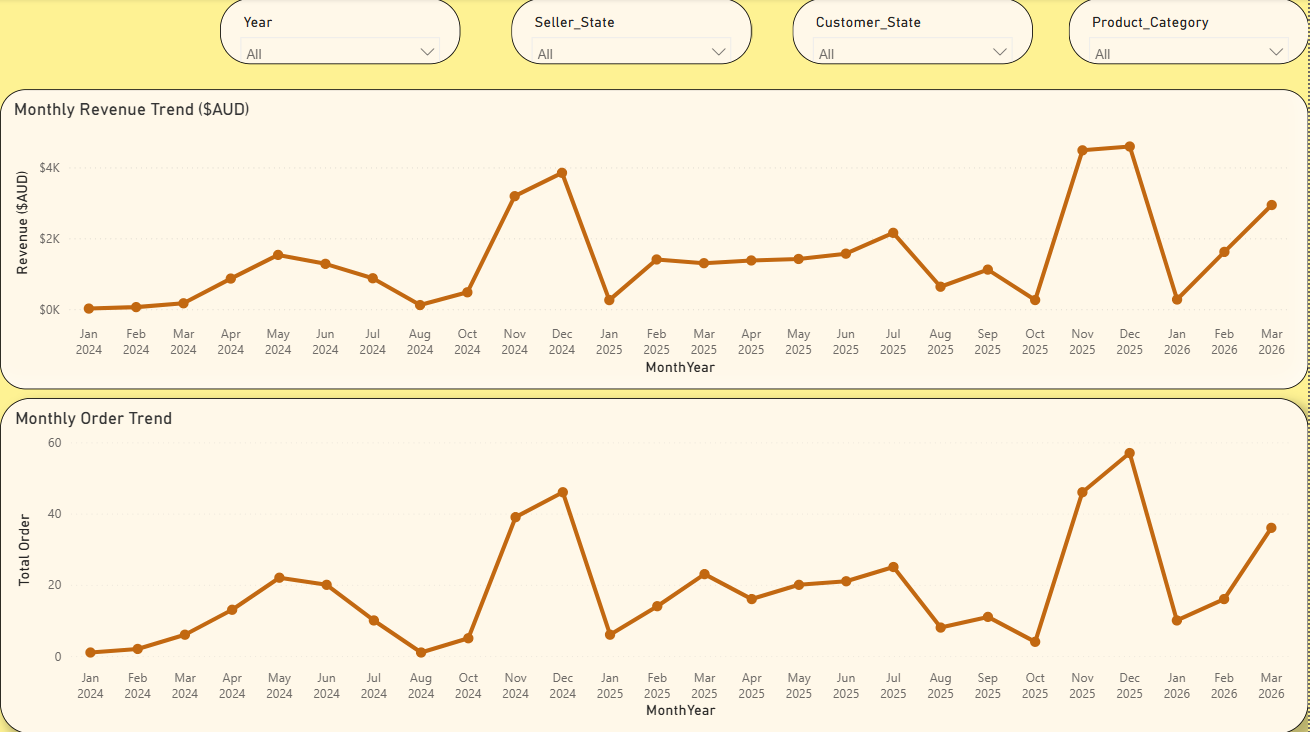

Layout of this report page (visuals, bound fields, positions):
{"tool":"powerbi","page":{"name":"Revenue and Order Trend Over Time *","canvas":[1280,720],"ordinal":2},"visuals":[{"type":"lineChart","title":"Monthly Revenue Trend ($AUD)","fields":{"Category":["Table4_Orders.MonthYear"],"Y":["Table4_Orders.Revenue ($AUD)"]},"box":[0,88.8,1280,293.8],"z":0},{"type":"slicer","fields":{"Values":["Orders.Order_Date.Variation.Date Hierarchy.Year"]},"box":[215,0,235,65],"z":1000},{"type":"slicer","fields":{"Values":["Sellers_2026.Seller_State"]},"box":[500,0,235,65],"z":2000},{"type":"slicer","fields":{"Values":["Customers.Customer_State"]},"box":[775,0,235,65],"z":3000},{"type":"slicer","fields":{"Values":["Products_2026.Product_Category"]},"box":[1045,0,235,65],"z":4000},{"type":"lineChart","title":"Monthly Order Trend","fields":{"Category":["Orders.MonthYear"],"Y":["Orders.Total Order"]},"box":[0,391.4,1280,328.6],"z":5000}]}

Visuals, with their boxes in screenshot pixels (x1, y1, x2, y2), scaled from the page's 1280x720 canvas onto the 1310x732 screenshot:
"Monthly Revenue Trend ($AUD)" lineChart: <bbox>0, 90, 1309, 389</bbox>
slicer - Orders.Order_Date.Variation.Date Hierarchy.Year: <bbox>220, 0, 461, 66</bbox>
slicer - Sellers_2026.Seller_State: <bbox>512, 0, 752, 66</bbox>
slicer - Customers.Customer_State: <bbox>793, 0, 1034, 66</bbox>
slicer - Products_2026.Product_Category: <bbox>1069, 0, 1309, 66</bbox>
"Monthly Order Trend" lineChart: <bbox>0, 398, 1309, 731</bbox>
